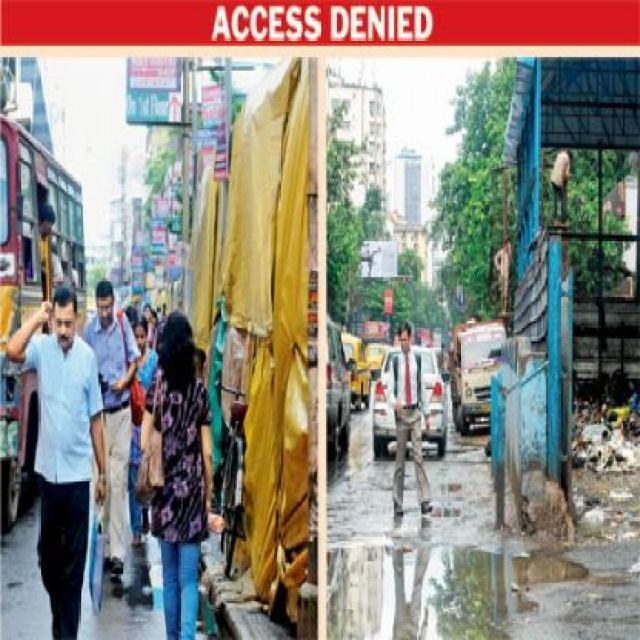garbage: (569, 379, 639, 486), (522, 474, 566, 536)
